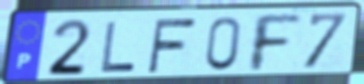0: (205, 15, 244, 73)
2: (47, 18, 93, 78)
7: (301, 12, 350, 73)
F: (249, 12, 304, 74), (145, 16, 199, 75)
L: (99, 20, 138, 74)
